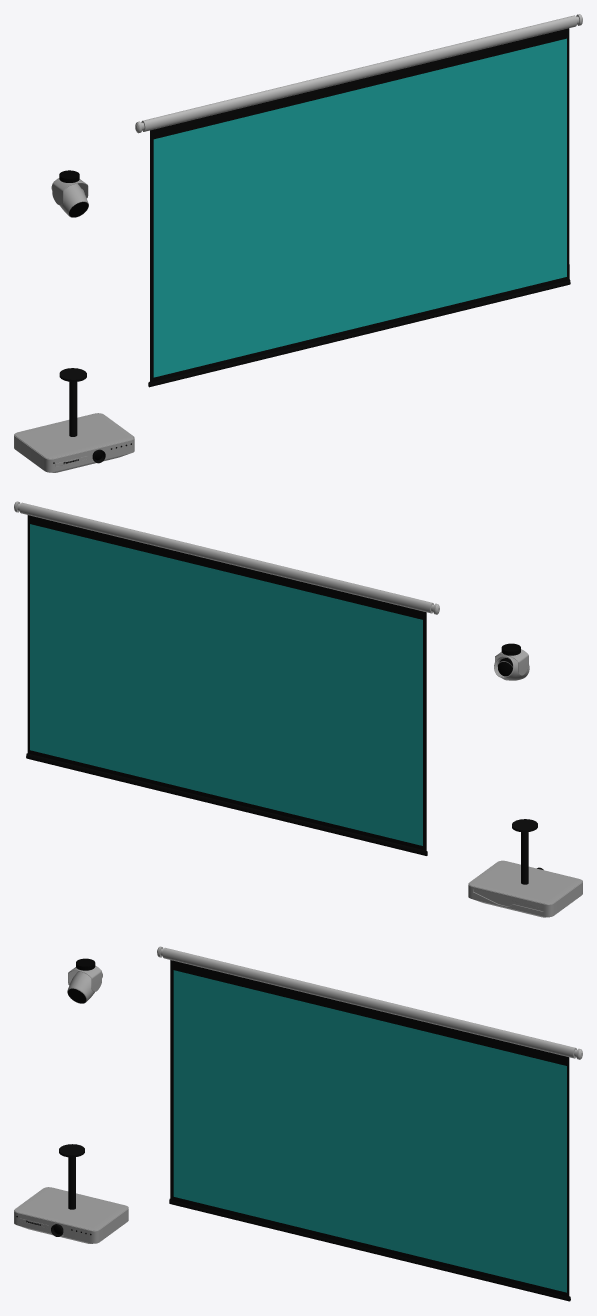
File: touyingyi.FBX
3 views of the same model, one above another, from view 1: azimuth 30°, elevation 25°; view 2: azimuth 150°, elevation 25°; view 3: azimuth 330°, elevation 25° (orthographic). The views are drawn at different scales.
Parts seen in each view (by area): view 1: Obj3d66-491562-38-197, Circle9969, cgaxis_electronics_10_03_005, cgaxis_electronics_10_01_002, Polycom_eagleeye_III_camera002; view 2: Obj3d66-491562-38-197, Circle9969, cgaxis_electronics_10_03_005, cgaxis_electronics_10_01_002, Polycom_eagleeye_III_camera002; view 3: Obj3d66-491562-38-197, Circle9969, cgaxis_electronics_10_03_005, cgaxis_electronics_10_01_002, Polycom_eagleeye_III_camera002.
Part boxes in pixels (left/top/right/bottom): Obj3d66-491562-38-197: left=148, top=28, right=570, bottom=387; Circle9969: left=141, top=15, right=576, bottom=131; cgaxis_electronics_10_03_005: left=15, top=413, right=133, bottom=472; cgaxis_electronics_10_01_002: left=14, top=413, right=134, bottom=472; Polycom_eagleeye_III_camera002: left=51, top=170, right=88, bottom=217; Obj3d66-491562-38-197: left=26, top=515, right=427, bottom=855; Circle9969: left=19, top=502, right=433, bottom=613; cgaxis_electronics_10_03_005: left=469, top=860, right=582, bottom=917; cgaxis_electronics_10_01_002: left=468, top=860, right=582, bottom=917; Polycom_eagleeye_III_camera002: left=494, top=643, right=529, bottom=680; Obj3d66-491562-38-197: left=169, top=960, right=570, bottom=1301; Circle9969: left=162, top=947, right=576, bottom=1058; cgaxis_electronics_10_03_005: left=14, top=1187, right=127, bottom=1243; cgaxis_electronics_10_01_002: left=14, top=1187, right=128, bottom=1243; Polycom_eagleeye_III_camera002: left=67, top=958, right=102, bottom=1003.
Size of the model in its own units: 1876 by 958 by 234.
